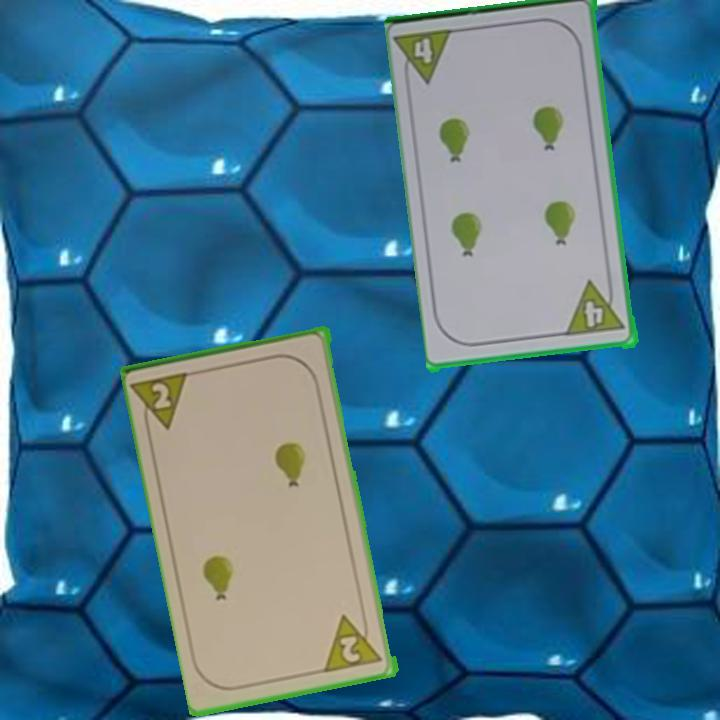2p: (322, 608, 386, 676), (148, 379, 175, 413)
4p: (563, 280, 610, 335), (411, 34, 437, 67)
